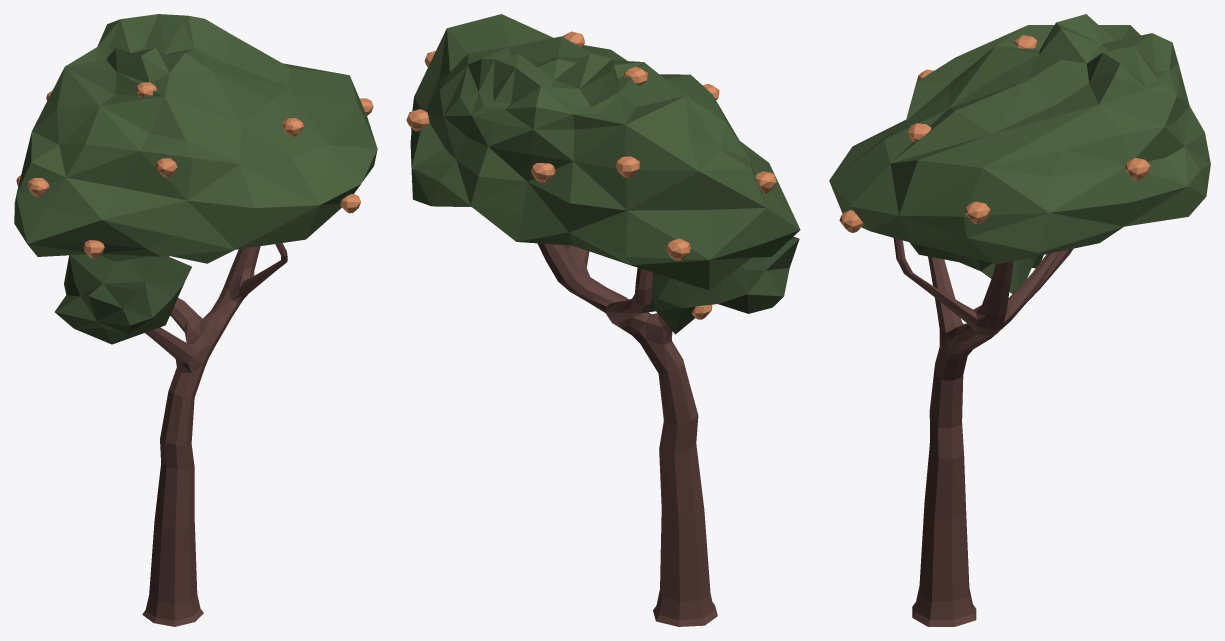
The model's file is tree_peach.s4.glb.
3 views of the same model, side by side, from view 1: azimuth 30°, elevation 25°; view 2: azimuth 150°, elevation 25°; view 3: azimuth 270°, elevation 25° (orthographic). The views are drawn at different scales.
Size of the model in its own units: 0.6745 by 1 by 0.5714.
